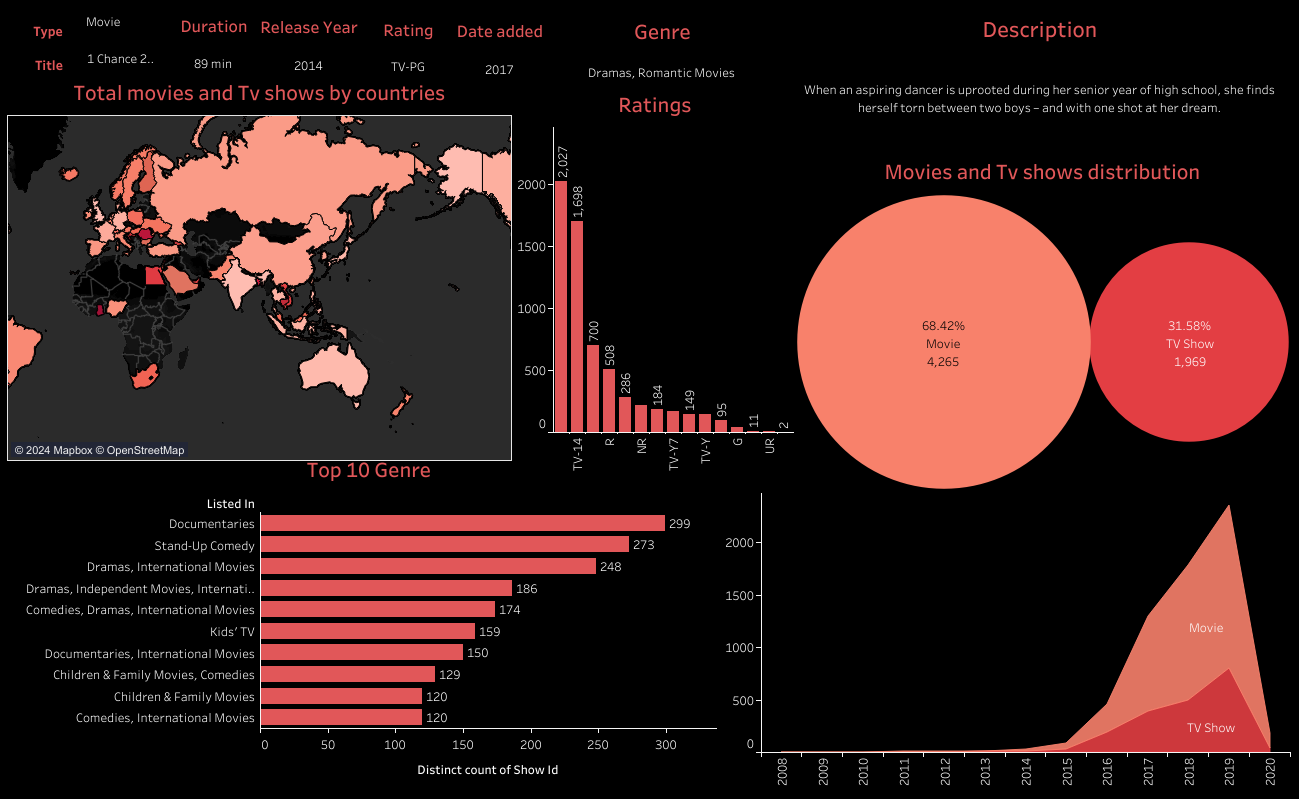

This screenshot's page, from the dashboard's own definition file:
{"tool":"tableau","page":{"name":"Netflix","canvas":[1300,800],"ordinal":0},"visuals":[{"type":"worksheet","title":"Duration","mark":"Automatic","box":[155,8,118,72]},{"type":"worksheet","title":"Description","mark":"Automatic","box":[795,8,490,137]},{"type":"worksheet","title":"Release year","mark":"Automatic","box":[248,9,122,74]},{"type":"worksheet","title":"genre","mark":"Automatic","box":[570,11,185,80]},{"type":"filter","title":"Description","param":"[federated.1j4g4va0v396dx179c11e0196gg9].[none:type:nk]","box":[12,12,144,36]},{"type":"worksheet","title":"Rating","mark":"Automatic","box":[356,12,105,71]},{"type":"worksheet","title":"Date added","mark":"Automatic","box":[431,13,138,75]},{"type":"legend","title":"Movies and Tv shows distribution","param":"[federated.1j4g4va0v396dx179c11e0196gg9].[ctd:show_id:qk]","box":[570,26,160,150]},{"type":"filter","title":"Description","param":"[federated.1j4g4va0v396dx179c11e0196gg9].[none:title:nk]","box":[13,49,143,31]},{"type":"worksheet","title":"Total movies and TV shows by countries","mark":"Multipolygon","box":[7,72,505,389]},{"type":"worksheet","title":"Ratings","mark":"Automatic","rows":["show_id"],"cols":["rating"],"box":[517,84,276,408]},{"type":"worksheet","title":"Movies and Tv shows distribution","mark":"Circle","box":[796,151,493,338]},{"type":"worksheet","title":"Top 10 Genre","mark":"Automatic","rows":["listed_in"],"cols":["show_id"],"box":[22,449,694,336]},{"type":"worksheet","title":"Total movies and TV shows by years","mark":"Area","rows":["show_id"],"cols":["date_added"],"box":[725,450,565,342]}]}

Visuals, with their boxes in screenshot pixels (x1, y1, x2, y2), scaled from the page's 1300x800 canvas onto the 1299x799 screenshot:
"Duration" worksheet: (155, 8, 273, 80)
"Description" worksheet: (794, 8, 1284, 145)
"Release year" worksheet: (248, 9, 370, 83)
"genre" worksheet: (570, 11, 754, 91)
"Description" filter: (12, 12, 156, 48)
"Rating" worksheet: (356, 12, 461, 83)
"Date added" worksheet: (431, 13, 569, 88)
"Movies and Tv shows distribution" legend: (570, 26, 729, 176)
"Description" filter: (13, 49, 156, 80)
"Total movies and TV shows by countries" worksheet (Multipolygon marks): (7, 72, 512, 460)
"Ratings" worksheet: (517, 84, 792, 491)
"Movies and Tv shows distribution" worksheet (Circle marks): (795, 151, 1288, 488)
"Top 10 Genre" worksheet: (22, 448, 715, 784)
"Total movies and TV shows by years" worksheet (Area marks): (724, 449, 1289, 791)
